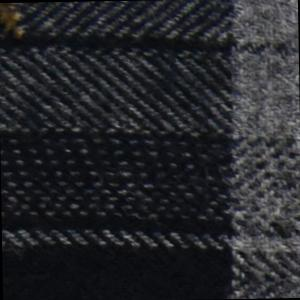Oil Stain: (1, 3, 28, 44)
